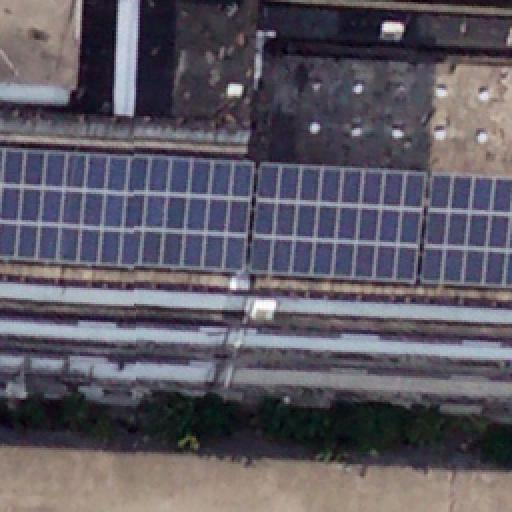solar-panel: (0, 150, 252, 270), (248, 165, 428, 283), (420, 177, 512, 287)
